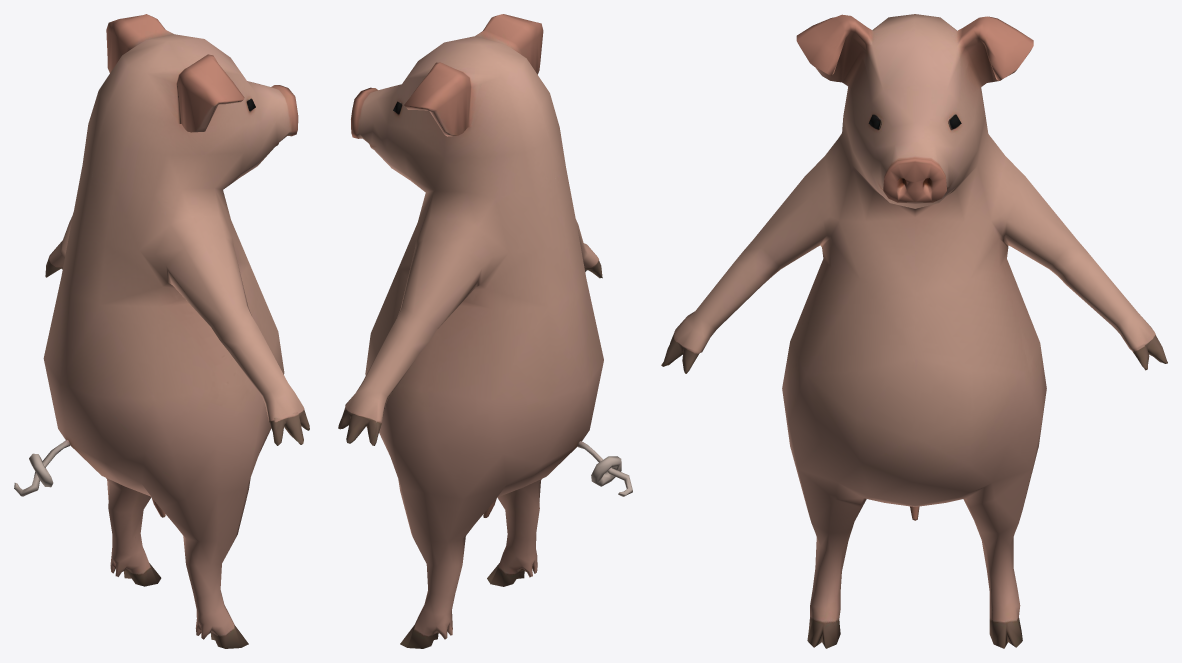
The model's file is pig_a_pose_full.unrigged.glb.
3 views of the same model, side by side, from view 1: azimuth 30°, elevation 25°; view 2: azimuth 150°, elevation 25°; view 3: azimuth 270°, elevation 25° (orthographic). The views are drawn at different scales.
Parts seen in each view (by area): view 1: tripo_node_bebdb9ca-976d-45b2-97e3-469e21fc9fe4; view 2: tripo_node_bebdb9ca-976d-45b2-97e3-469e21fc9fe4; view 3: tripo_node_bebdb9ca-976d-45b2-97e3-469e21fc9fe4.
Boxes of the visible parts, x1=… form: tripo_node_bebdb9ca-976d-45b2-97e3-469e21fc9fe4: x1=14, y1=14, x2=309, y2=648; tripo_node_bebdb9ca-976d-45b2-97e3-469e21fc9fe4: x1=338, y1=14, x2=632, y2=648; tripo_node_bebdb9ca-976d-45b2-97e3-469e21fc9fe4: x1=661, y1=14, x2=1167, y2=648.
Bounding box in the file's own units: 0.4863 × 0.998 × 0.7441.
Materials: 1 (1 with a texture image).
